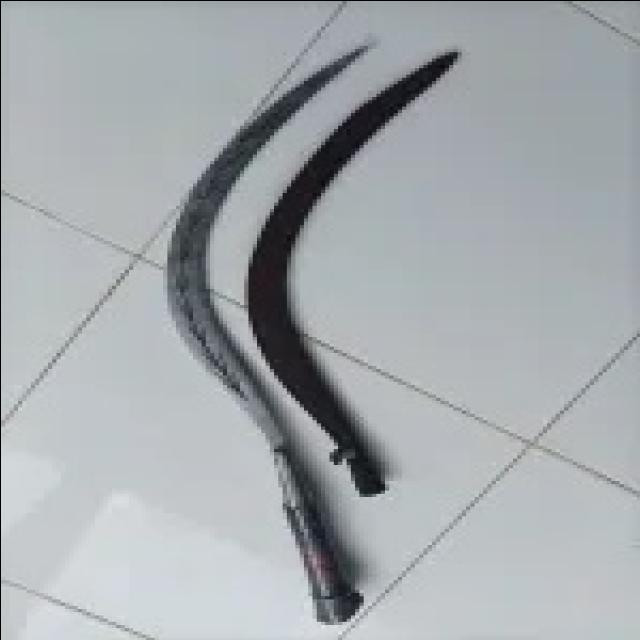Celurit: (164, 42, 366, 626)
